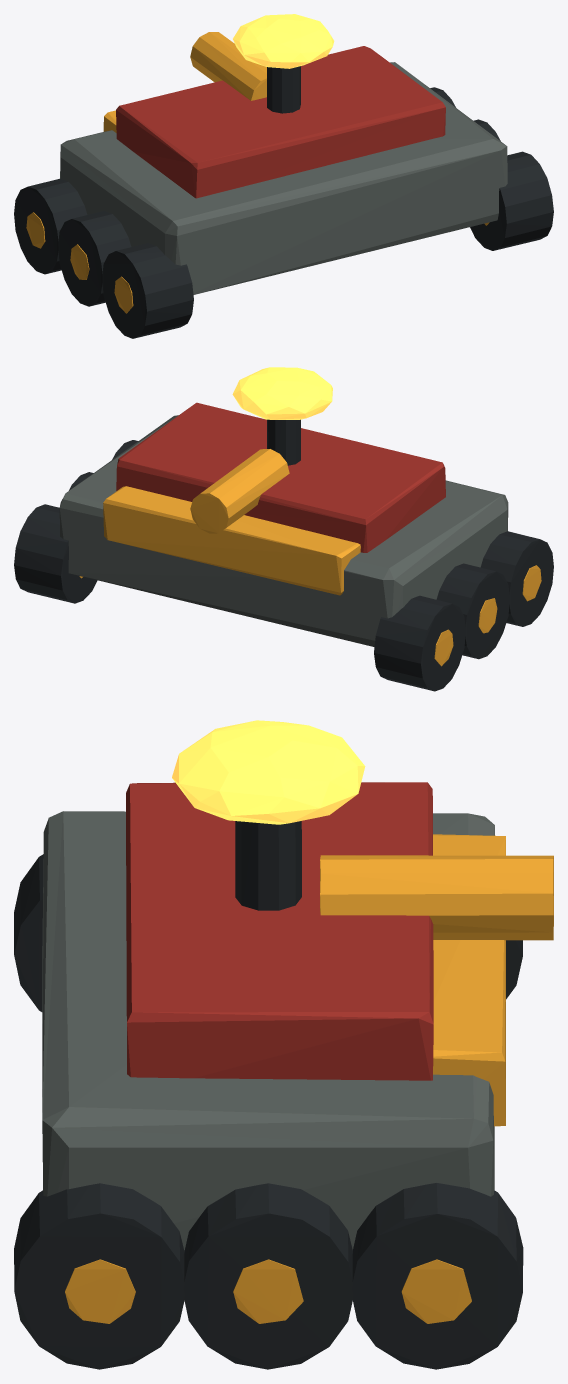
The model's file is SM_Soviet_SU_RysScout_LOD2.fbx.
3 views of the same model, one above another, from view 1: azimuth 30°, elevation 25°; view 2: azimuth 150°, elevation 25°; view 3: azimuth 270°, elevation 25° (orthographic). The views are drawn at different scales.
Visible parts, largest first — view 1: LOD02_SM_Soviet_SU_RysScout; view 2: LOD02_SM_Soviet_SU_RysScout; view 3: LOD02_SM_Soviet_SU_RysScout.
Boxes of the visible parts, box(x1,y1,x2,y2) form: LOD02_SM_Soviet_SU_RysScout: box(14, 14, 553, 338); LOD02_SM_Soviet_SU_RysScout: box(14, 367, 553, 691); LOD02_SM_Soviet_SU_RysScout: box(14, 720, 553, 1369).
Bounding box in the file's own units: 354 × 212 × 190.
